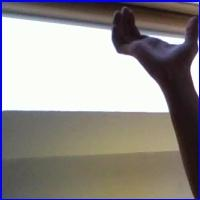space: (101, 6, 198, 76)
